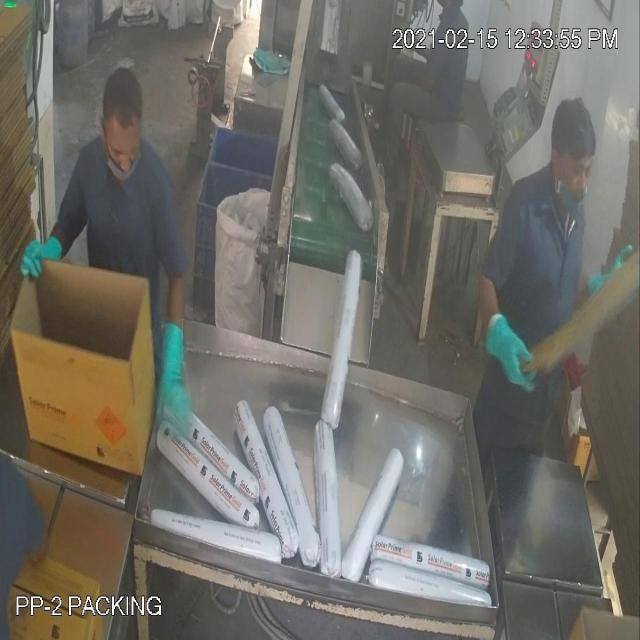Gloves: (41, 64, 515, 376)
